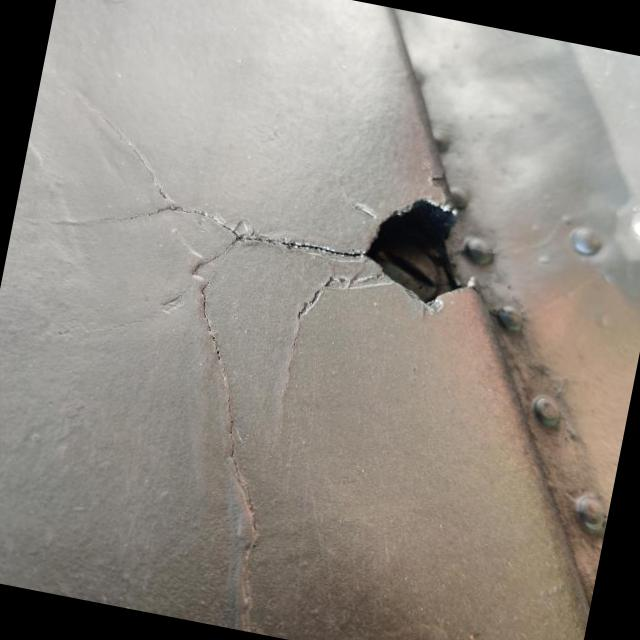Crack: (230, 199, 460, 303)
